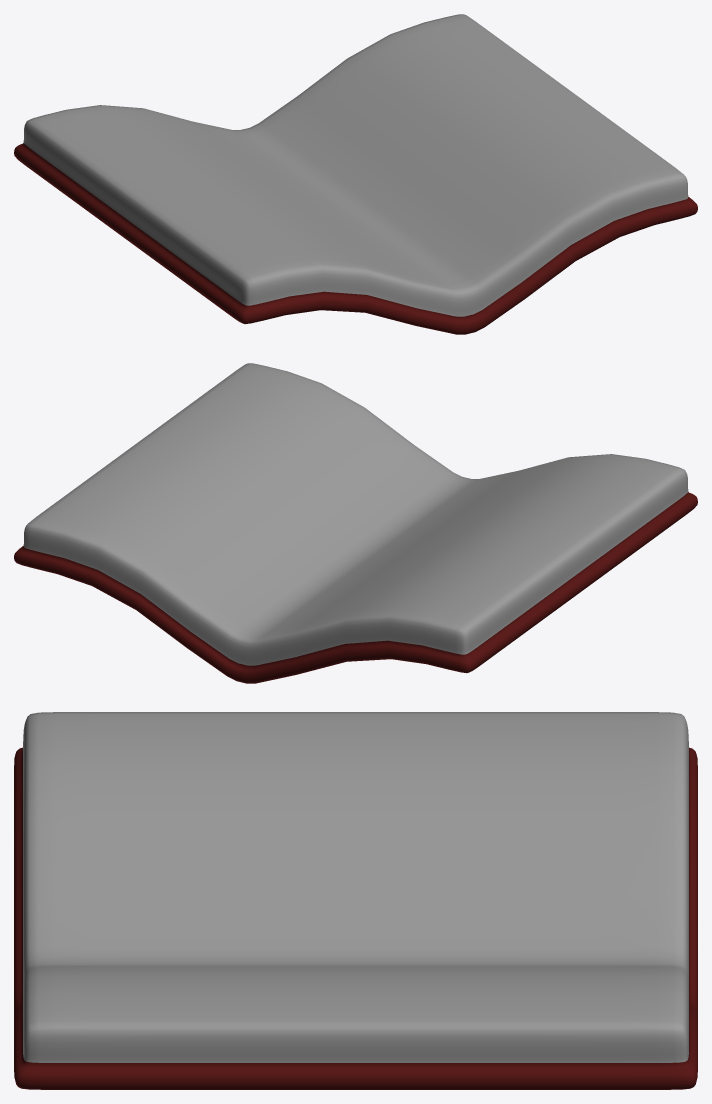
Rendered from openbook.fbx.
3 renders of one model, top to bottom at view 1: azimuth 30°, elevation 25°; view 2: azimuth 150°, elevation 25°; view 3: azimuth 270°, elevation 25°, orthographic. The views are drawn at different scales.
Parts seen in each view (by area): view 1: ChurchBookOpenV2; view 2: ChurchBookOpenV2; view 3: ChurchBookOpenV2.
Part boxes in pixels (<box>): ChurchBookOpenV2: <box>14,14,697,334</box>; ChurchBookOpenV2: <box>14,363,697,683</box>; ChurchBookOpenV2: <box>14,712,697,1089</box>.
Bounding box in the file's own units: 173 × 38.99 × 152.
